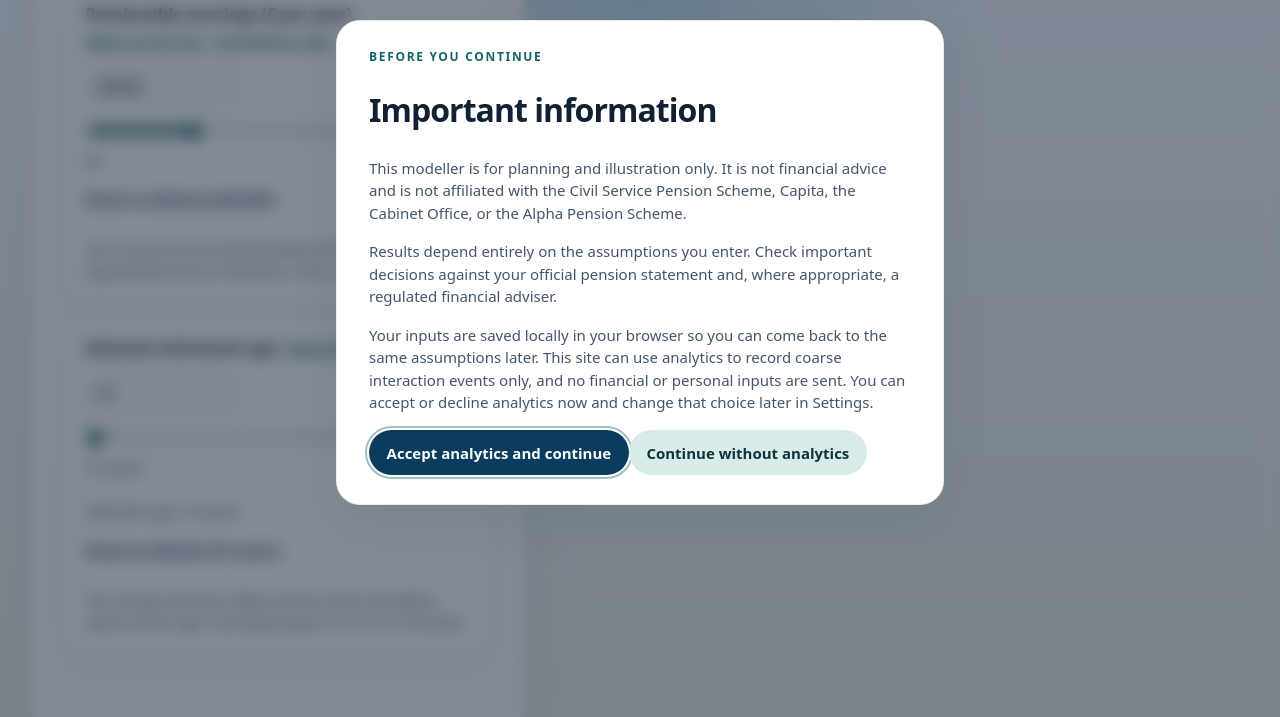
Test case: Quick modeller journey › keeps the acknowledgement modal focused and the quick page inert
The width and height of the screenshot is (1280, 717).
(page scrolled)
Press Tab
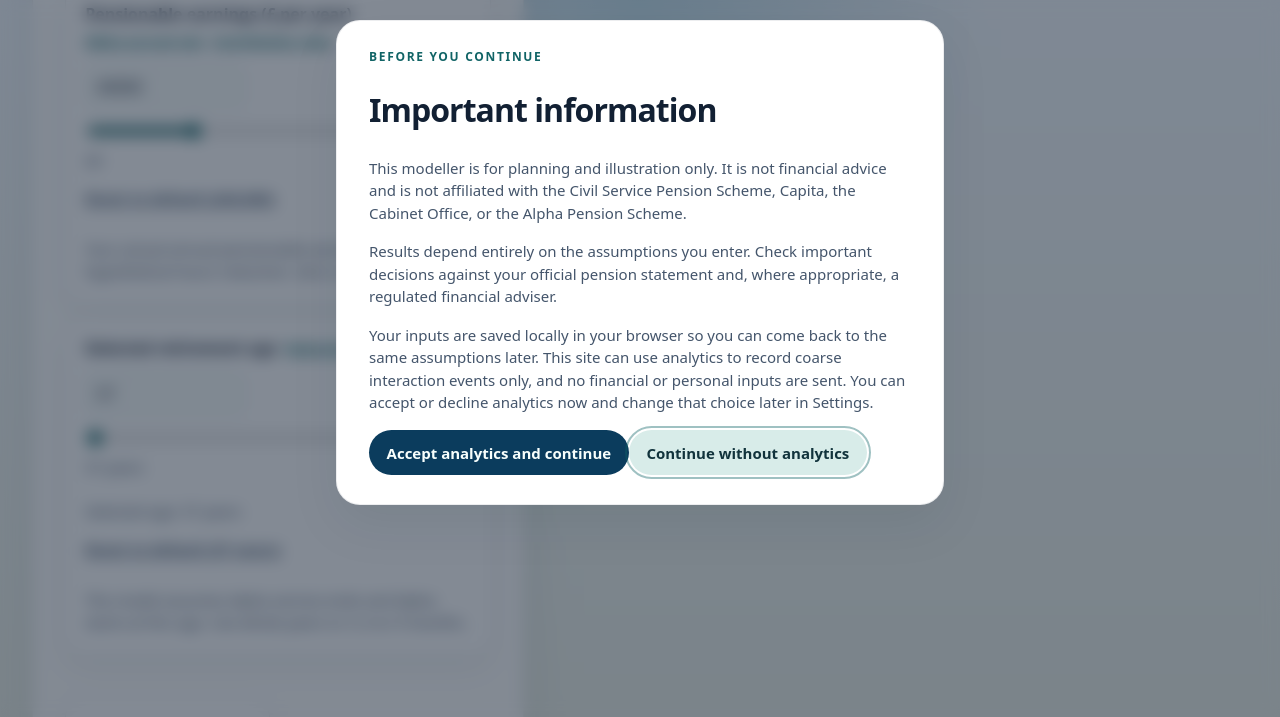
Press Tab
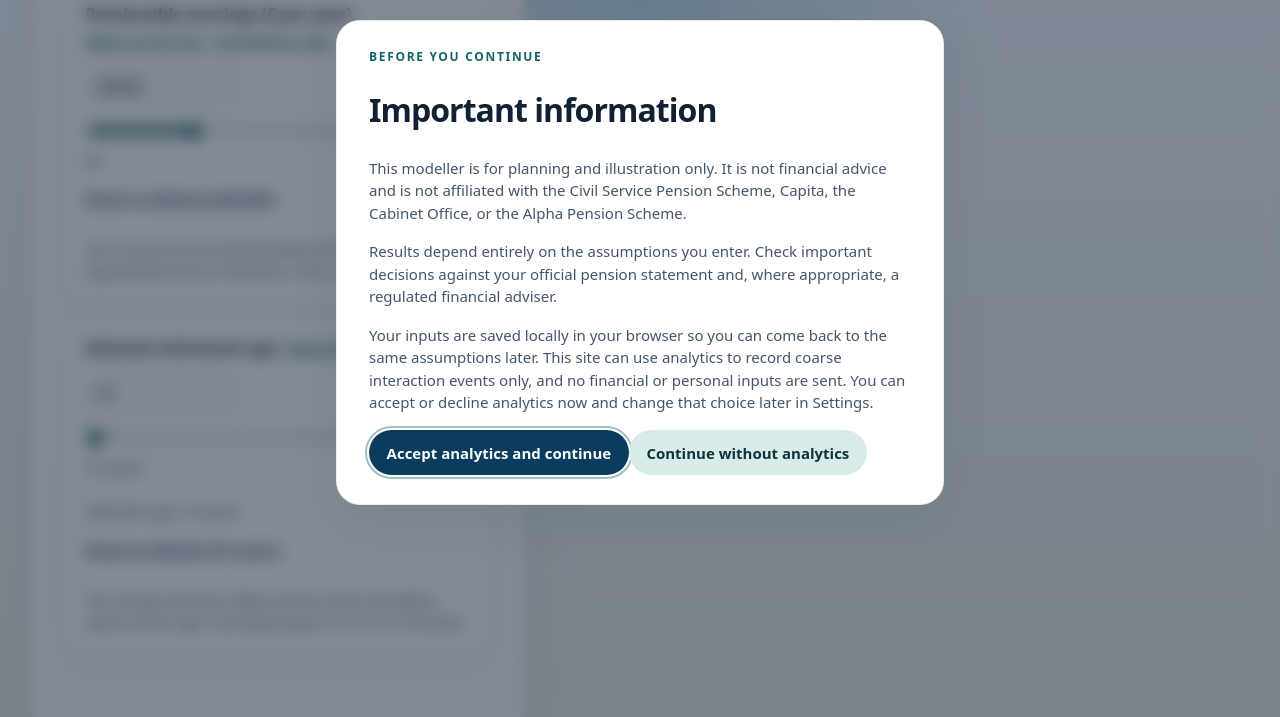
Click the button "Continue without analytics": (748, 453) [629,430,867,475]
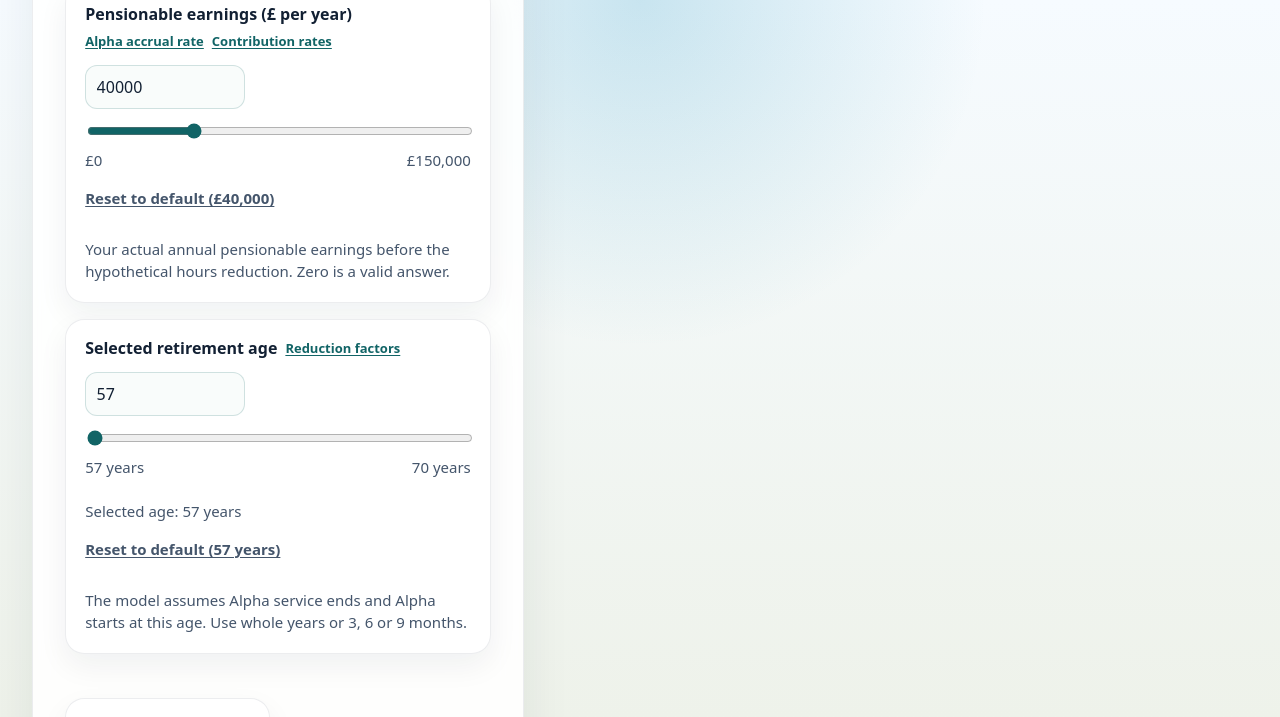
Check: the heading "Important information" is gone
